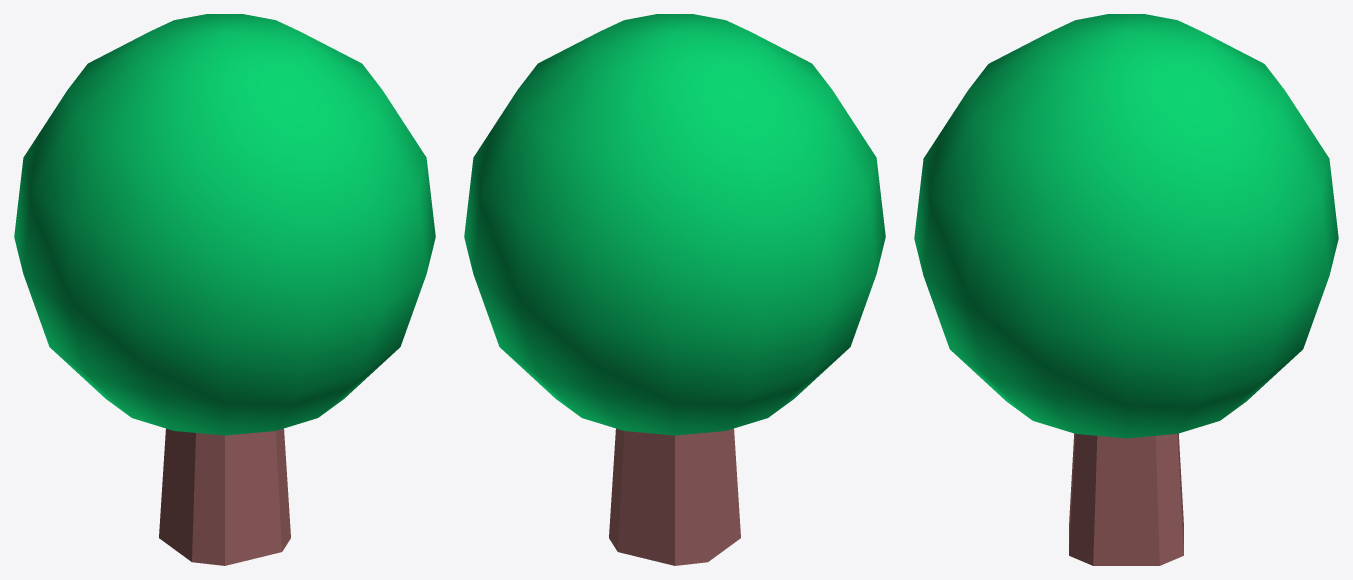
File: Tree 3.fbx
3 views of the same model, side by side, from view 1: azimuth 30°, elevation 25°; view 2: azimuth 150°, elevation 25°; view 3: azimuth 270°, elevation 25° (orthographic).
Visible parts, largest first — view 1: LOD0_Trunk1; view 2: LOD0_Trunk1; view 3: LOD0_Trunk1.
Boxes of the visible parts, x1,y1,x2,y2 form: LOD0_Trunk1: [14, 14, 435, 565]; LOD0_Trunk1: [464, 14, 885, 565]; LOD0_Trunk1: [914, 14, 1338, 565].
Bounding box in the file's own units: 4.41 × 5.86 × 4.44.
